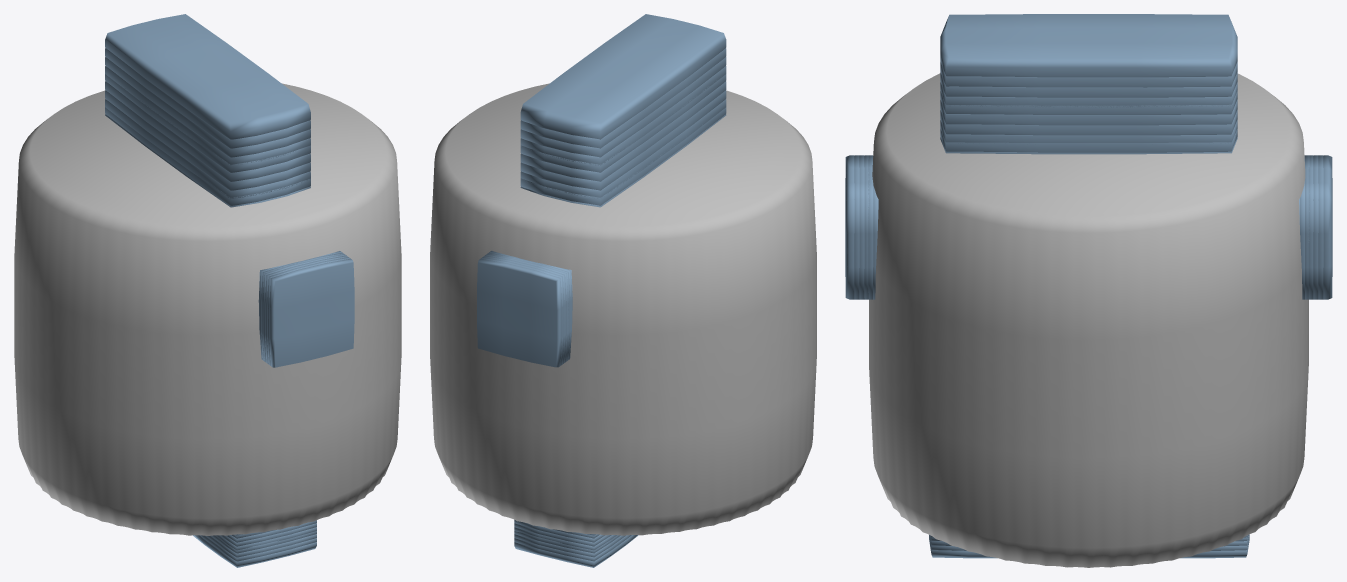
File: body.gltf
3 renders of one model, left to right at view 1: azimuth 30°, elevation 25°; view 2: azimuth 150°, elevation 25°; view 3: azimuth 270°, elevation 25°, orthographic. The views are drawn at different scales.
Parts seen in each view (by area): view 1: Torso, Neck, ArmMuscle, LegMuscle; view 2: Torso, Neck, ArmMuscle.001, LegMuscle.001; view 3: Torso, Neck, ArmMuscle.001, ArmMuscle, LegMuscle.001, LegMuscle.
Boxes of the visible parts, x1,y1,x2,y2 form: Torso: [14, 83, 401, 535]; Neck: [105, 14, 310, 207]; ArmMuscle: [258, 251, 354, 367]; LegMuscle: [193, 520, 316, 567]; Torso: [430, 83, 816, 535]; Neck: [520, 14, 726, 207]; ArmMuscle.001: [477, 250, 572, 367]; LegMuscle.001: [514, 520, 638, 567]; Torso: [869, 73, 1308, 567]; Neck: [940, 14, 1237, 154]; ArmMuscle.001: [1299, 155, 1332, 299]; ArmMuscle: [845, 155, 878, 299]; LegMuscle.001: [1180, 534, 1249, 558]; LegMuscle: [929, 535, 997, 558].
Bounding box in the file's own units: 1.82 × 2.28 × 2.01.
